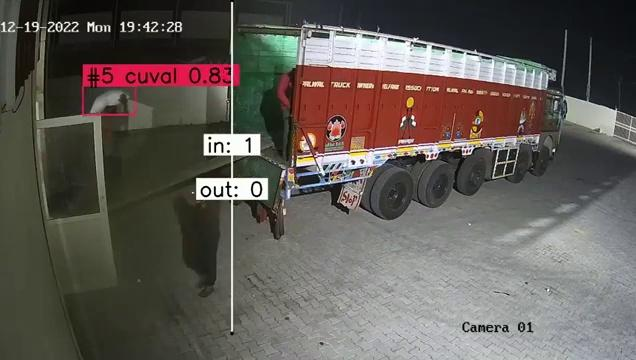karung: (85, 88, 133, 113)
